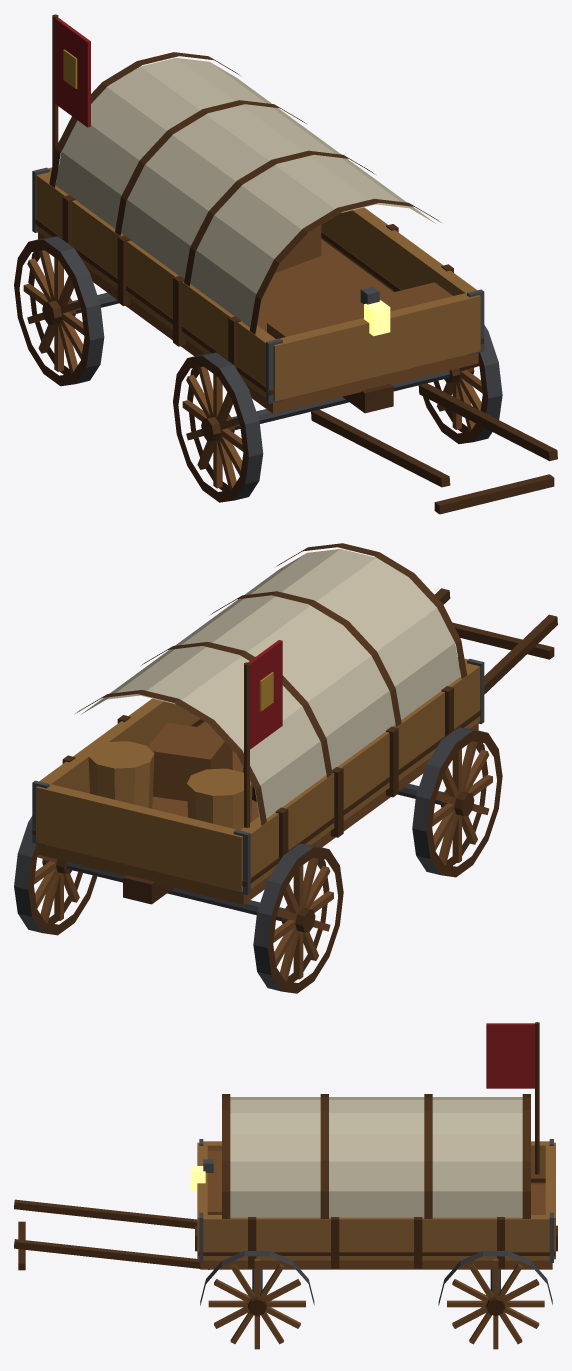
File: carroca_v02.glb
3 renders of one model, top to bottom at view 1: azimuth 30°, elevation 25°; view 2: azimuth 150°, elevation 25°; view 3: azimuth 270°, elevation 25°, orthographic. The views are drawn at different scales.
Visible parts, largest first — view 1: carroca, lona, roda_TD, roda_DD, roda_DE, estandarte, ferragens, lanterna; view 2: carroca, lona, roda_TD, roda_DD, roda_TE, estandarte, ferragens; view 3: lona, carroca, roda_TE, roda_DE, estandarte, ferragens.
Boxes of the visible parts, <box> form: carroca: <box>35,166,557,514</box>; lona: <box>49,52,441,334</box>; roda_TD: <box>14,236,104,386</box>; roda_DD: <box>173,352,263,502</box>; roda_DE: <box>423,325,502,443</box>; estandarte: <box>52,14,90,179</box>; ferragens: <box>32,167,484,403</box>; lanterna: <box>364,300,390,336</box>; carroca: <box>32,588,557,921</box>; lona: <box>75,543,467,825</box>; roda_TD: <box>253,843,343,993</box>; roda_DD: <box>412,727,502,877</box>; roda_TE: <box>14,816,97,935</box>; estandarte: <box>244,640,282,827</box>; ferragens: <box>32,658,484,894</box>; lona: <box>222,1094,530,1218</box>; carroca: <box>14,1141,557,1292</box>; roda_TE: <box>438,1251,552,1349</box>; roda_DE: <box>200,1251,314,1349</box>; estandarte: <box>486,1022,539,1174</box>; ferragens: <box>199,1139,553,1262</box>.
Bounding box in the file's own units: 2.18 × 2.69 × 5.25.
